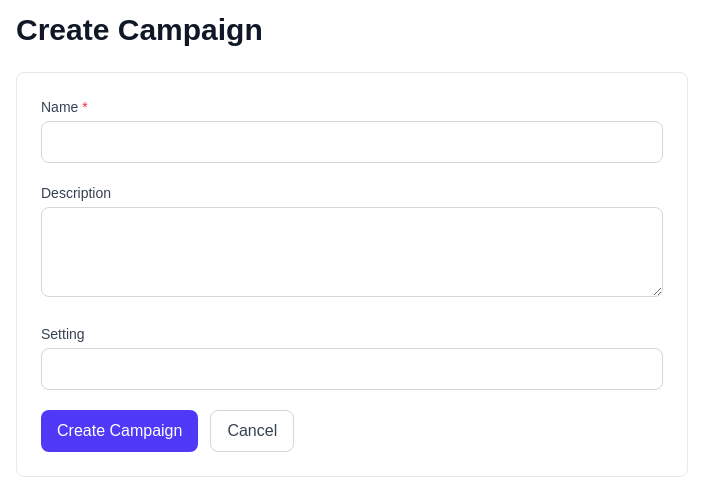
Test case: NewCampaignPage › shows submitting state while the request is in flight
Type "In Progress" into the field labelled "Name *" at (352, 142), box [41,121,663,163]
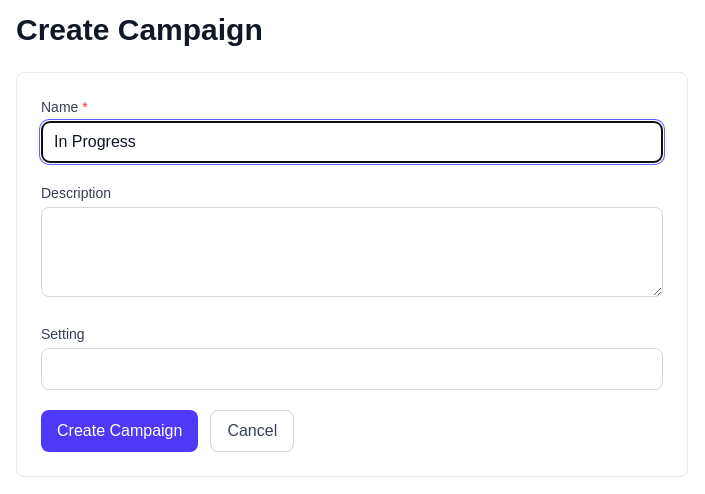
Click the button "Create Campaign" at (120, 431), box [41,410,198,452]
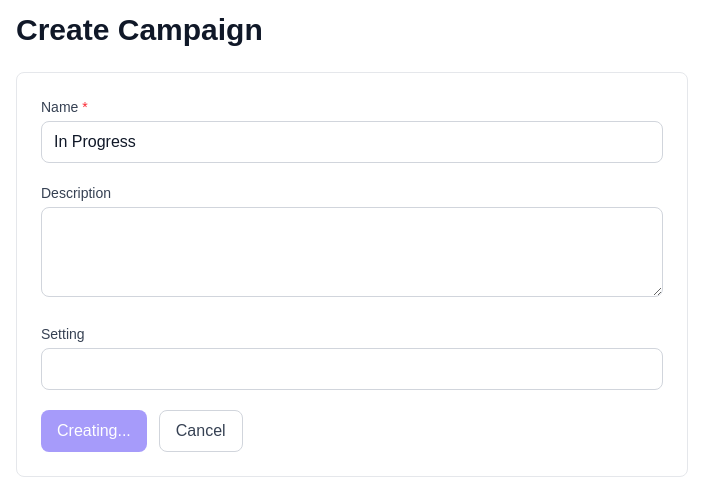
Expected: the button "Creating..." is disabled, [41,410,147,452]
